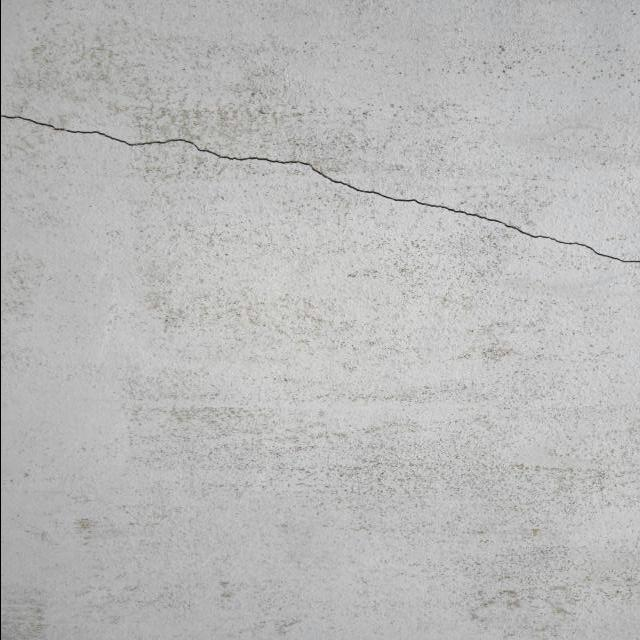SurfaceCrack: (1, 94, 640, 289)
